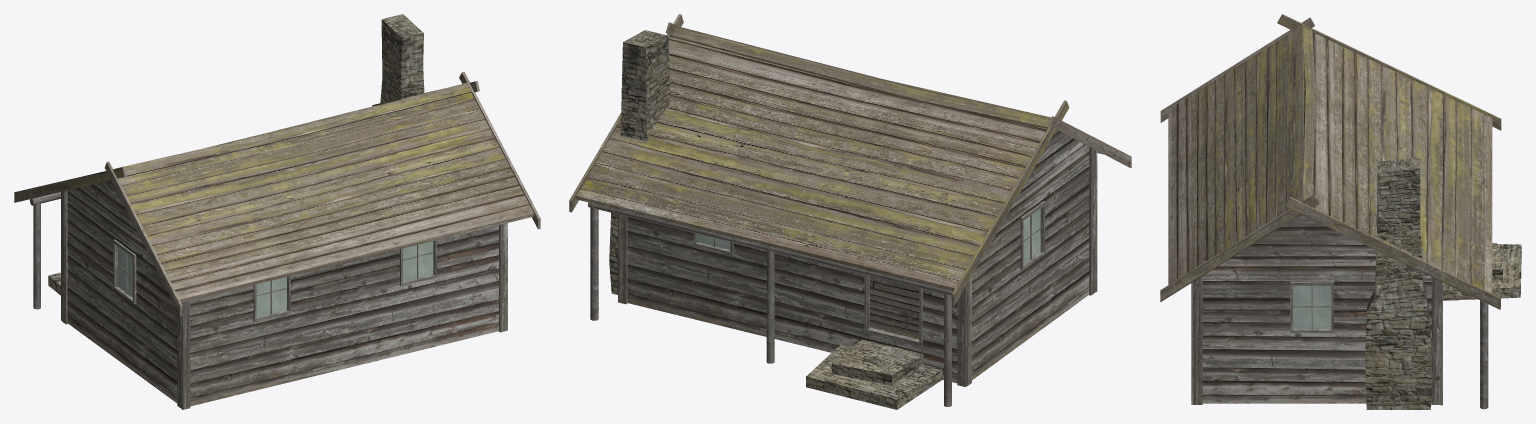
The model's file is woodHouse3.fbx.
The picture shows the model from 3 angles, left to right: view 1: azimuth 30°, elevation 25°; view 2: azimuth 150°, elevation 25°; view 3: azimuth 270°, elevation 25°; orthographic projection. The views are drawn at different scales.
Visible parts, largest first — view 1: roof, base; view 2: roof, base, steps, door; view 3: roof, base, steps.
Boxes of the visible parts, box(x1,y1,x2,y2) form: roof: box(14, 72, 540, 316); base: box(33, 14, 507, 409); roof: box(569, 14, 1131, 305); base: box(590, 30, 1097, 406); steps: box(806, 339, 942, 409); door: box(870, 276, 919, 339); roof: box(1160, 14, 1501, 309); base: box(1191, 157, 1488, 409); steps: box(1443, 243, 1521, 300).
Size of the model in its own units: 13.31 by 8.28 by 11.24.
